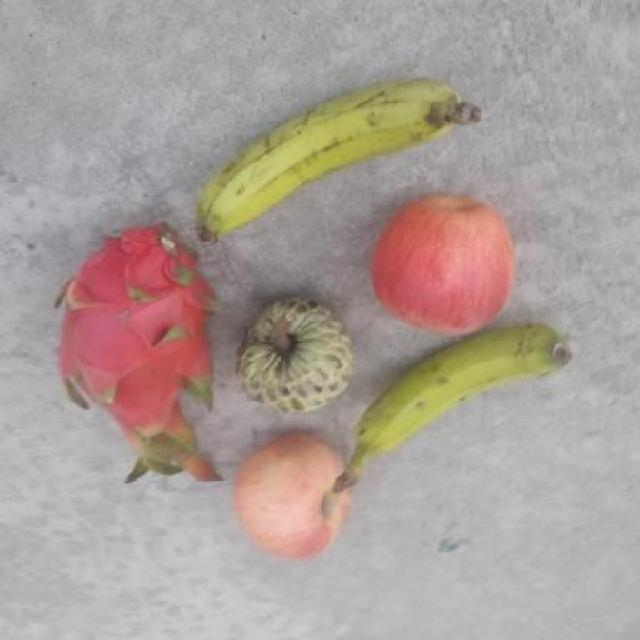apple: (372, 192, 516, 336), (232, 431, 356, 560)
banana: (192, 79, 483, 246), (334, 325, 574, 493)
dragon fruit: (51, 222, 223, 484)
sugar apple: (233, 293, 358, 415)
